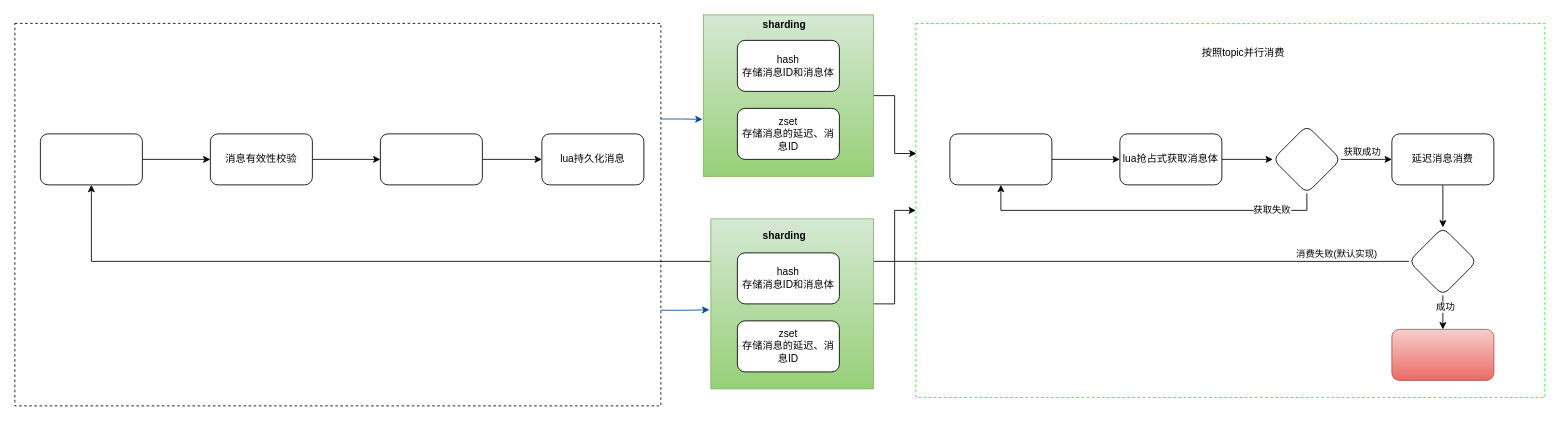
The diagram is 1560 pixels wide and 421 high, and some of its shapes have lost their labels. Each missing label, with the centre of its shape:
"hash、bucket、key 生成" belongs at (x=431, y=159).
"批量获取小于当前时间的消息ID集合" belongs at (x=1000, y=159).
"流程结束" belongs at (x=1442, y=354).
"生产者" belongs at (x=91, y=159).
